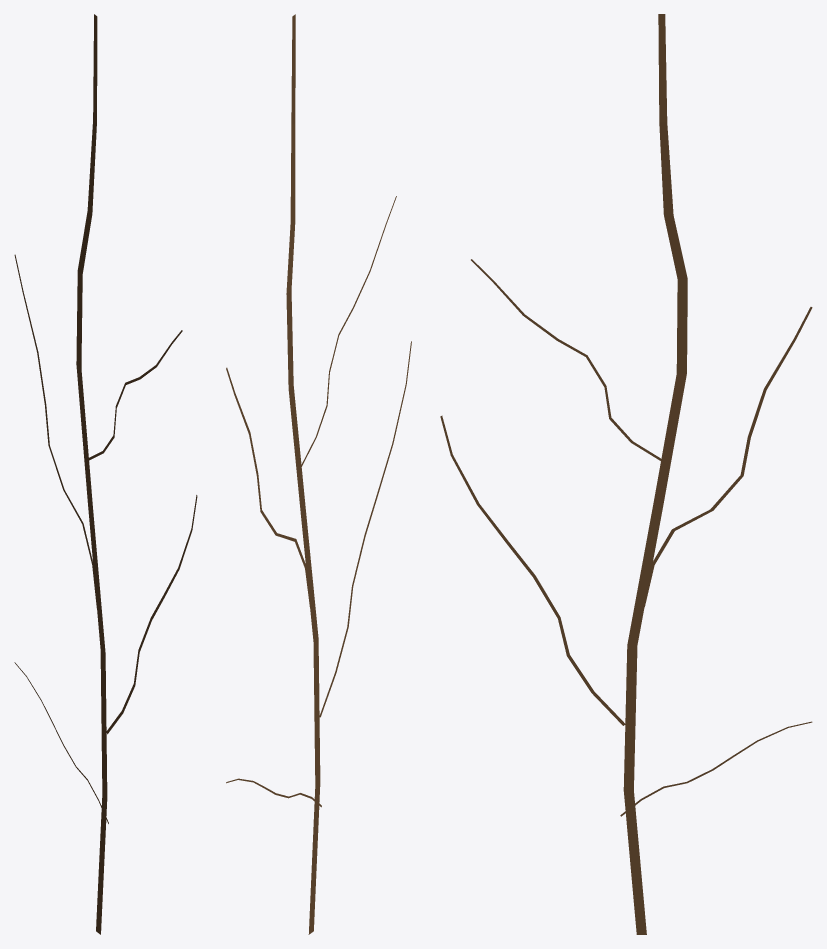
The model's file is DeadBush.glb.
3 renders of one model, left to right at view 1: azimuth 30°, elevation 25°; view 2: azimuth 150°, elevation 25°; view 3: azimuth 270°, elevation 25°, orthographic.
Visible parts, largest first — view 1: Plane, Plane.001, Plane.002, Plane.003; view 2: Plane, Plane.002, Plane.001, Plane.003; view 3: Plane, Plane.002, Plane.001, Plane.003.
Part boxes in pixels (box(x1,y1,x2,y2)): Plane: box(76, 14, 107, 934); Plane.001: box(14, 254, 98, 609); Plane.002: box(106, 495, 197, 734); Plane.003: box(87, 330, 182, 460); Plane: box(286, 14, 320, 934); Plane.002: box(319, 341, 411, 717); Plane.001: box(226, 367, 311, 606); Plane.003: box(300, 196, 396, 467); Plane: box(623, 14, 687, 934); Plane.002: box(440, 415, 625, 725); Plane.001: box(644, 307, 812, 606); Plane.003: box(471, 259, 661, 460).
Size of the model in its own units: 0.0518 by 6.3 by 2.3.
